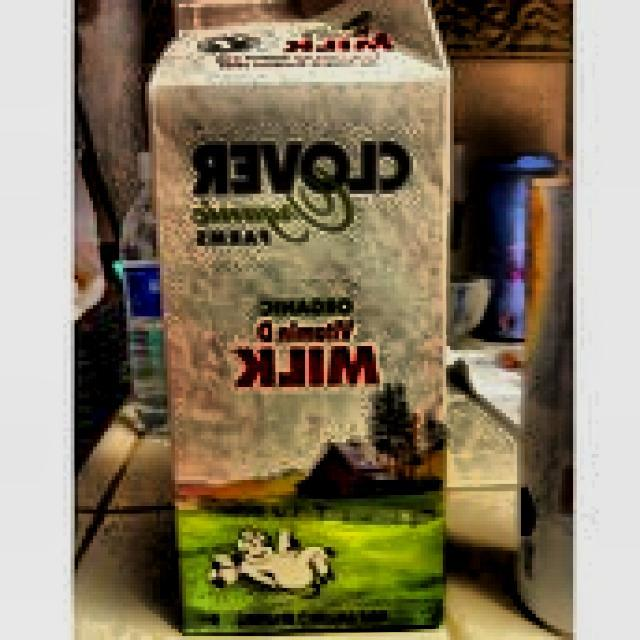cardboard: (149, 0, 458, 636)
